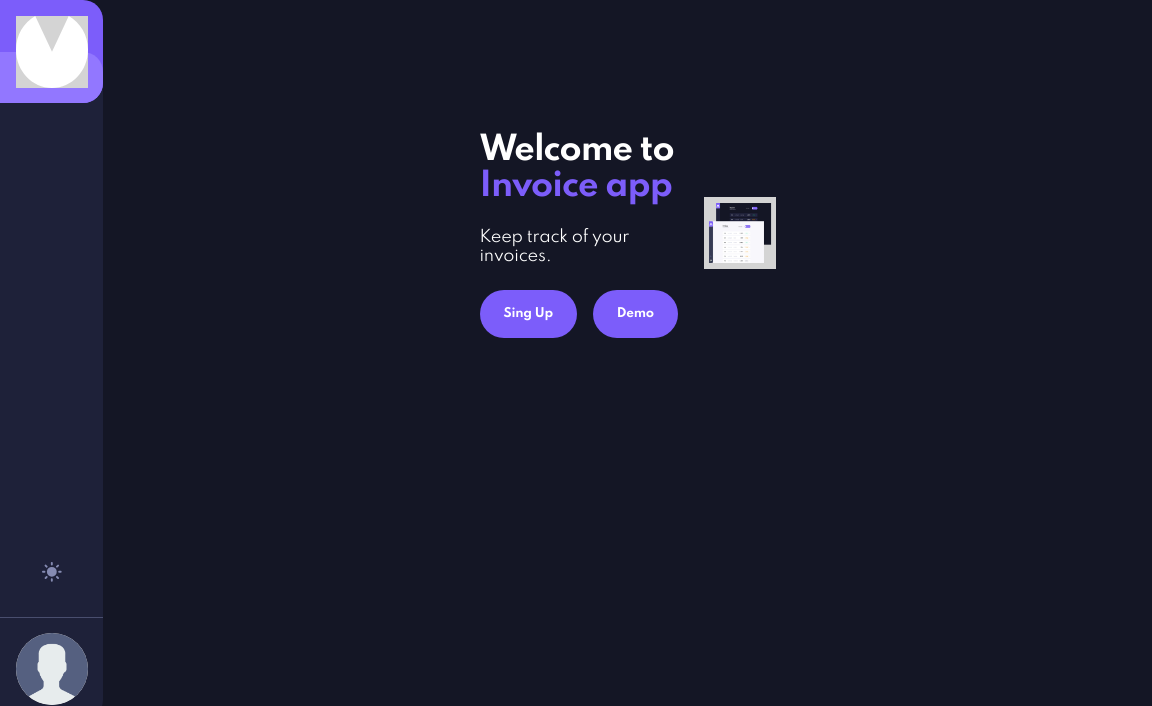
Test: demo mode › should change status from pending to paid
The width and height of the screenshot is (1152, 706).
Click the button "Demo" at (636,314), box [593,290,678,338]
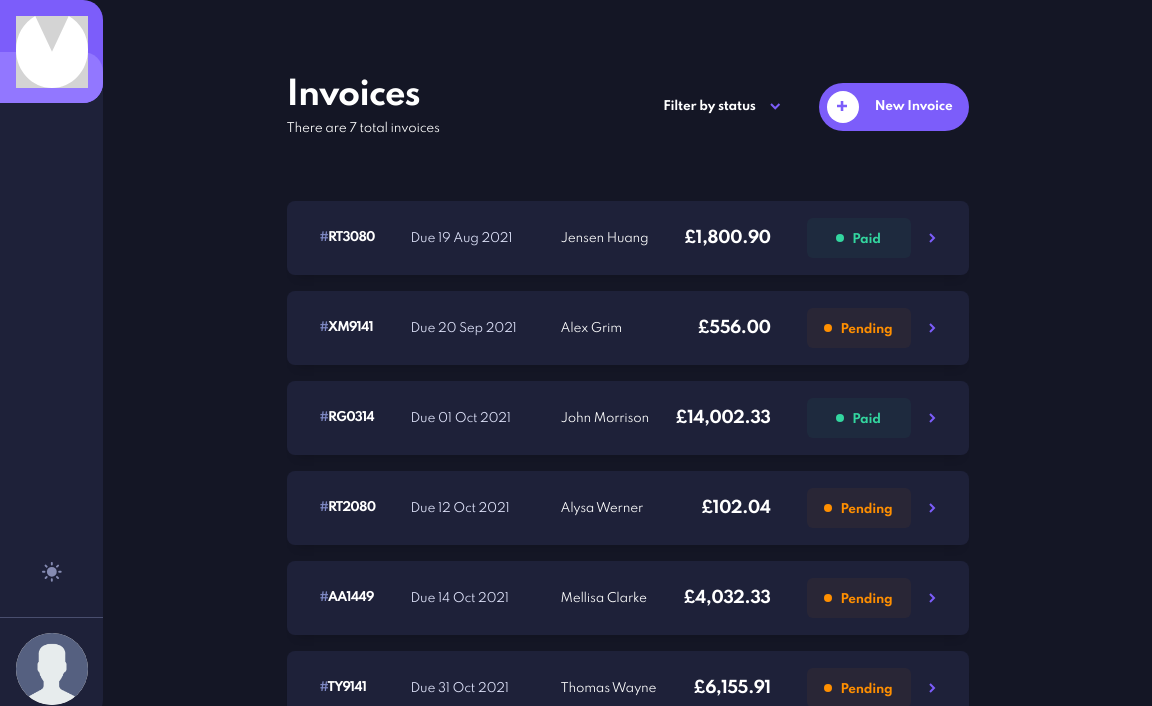
Click the text "Alex Grim" at (592,329), box [561,321,622,336]
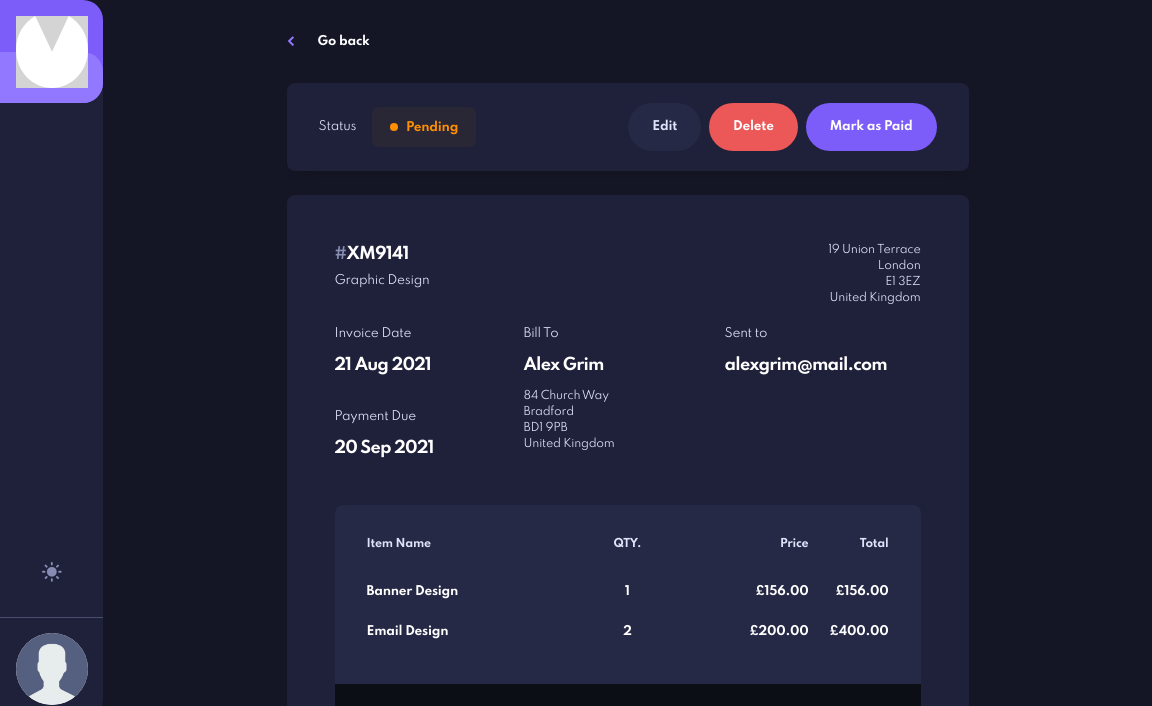
Click the button "Mark as Paid" at (872,127), box [806,103,937,151]
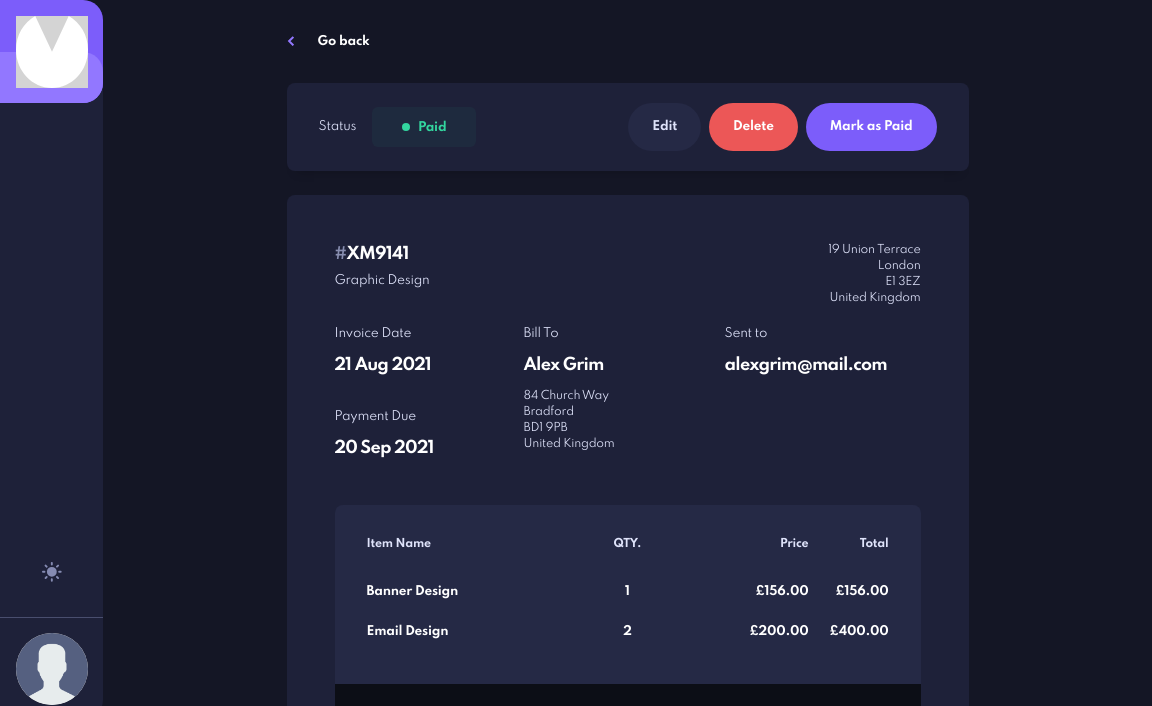
Now the text "paid" is shown, box [418,120,446,135]
